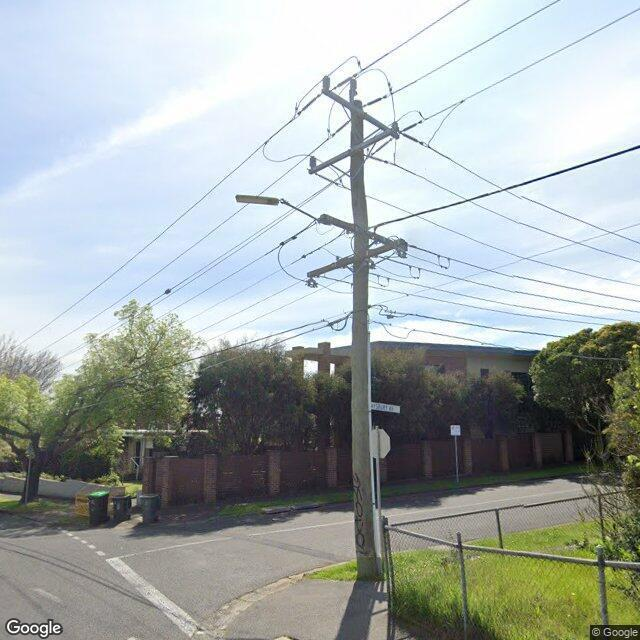HV-transmission: (310, 120, 399, 170), (323, 75, 398, 133)
crossarm: (310, 124, 400, 174), (306, 238, 406, 279), (322, 88, 399, 138), (320, 214, 408, 252)
streetlight: (235, 194, 319, 223)
timber-pole: (351, 99, 384, 582)
